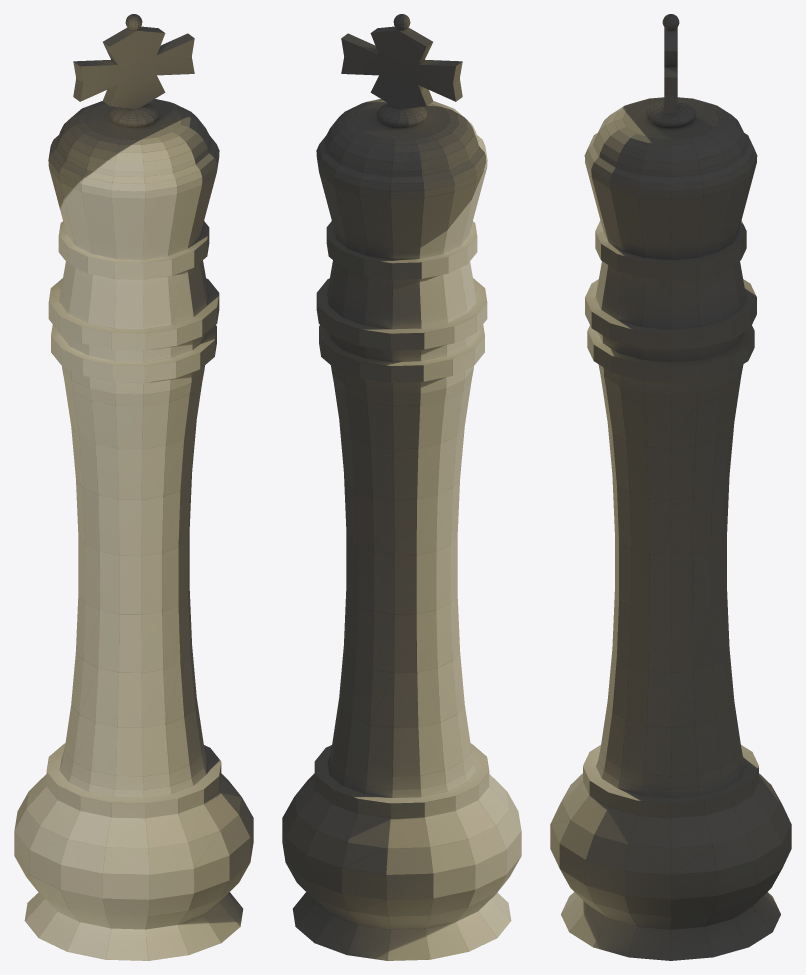
Rendered from chesskingmaterial.glb.
The picture shows the model from 3 angles, left to right: view 1: azimuth 30°, elevation 25°; view 2: azimuth 150°, elevation 25°; view 3: azimuth 270°, elevation 25°; orthographic projection.
Parts seen in each view (by area): view 1: king.001_Baked; view 2: king.001_Baked; view 3: king.001_Baked.
Part boxes in pixels (x1,y1,x2,y2): king.001_Baked: (14,14,253,960); king.001_Baked: (282,14,521,960); king.001_Baked: (550,14,791,960).
Bounding box in the file's own units: 0.0852 × 0.3506 × 0.0852.
Materials: 1 (1 with a texture image).
